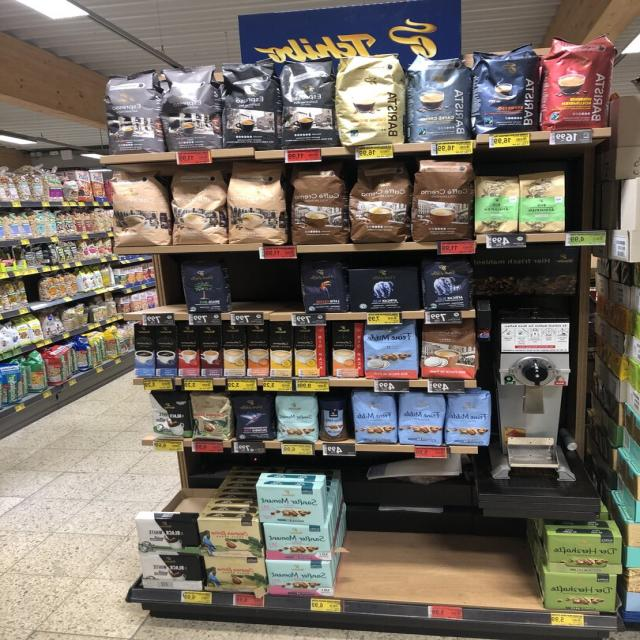AB Bohne: (420, 257, 473, 313)
AB Gemahlen: (349, 266, 422, 313)
Athiopien Gemahlen: (517, 170, 566, 233), (474, 175, 519, 235)
BM Bohne: (178, 258, 231, 314)
BW Bohne: (145, 391, 191, 439)
BW Gemahlen: (133, 518, 199, 556), (139, 555, 204, 591)
Barista CB: (335, 52, 407, 145)
Barista CC: (404, 54, 470, 143)
Barista Espresso: (470, 40, 540, 137)
Barista Kolumbien: (541, 30, 614, 131)
C Fino Bohne: (230, 393, 275, 443)
CC Mild: (106, 168, 172, 248), (226, 163, 287, 245), (168, 165, 227, 246)
CC Vollmundig: (419, 322, 477, 381)
CC Vollmundig 36 Pads: (412, 157, 474, 243), (348, 162, 411, 244), (290, 163, 348, 246)
Colombia BB Bohne: (188, 393, 232, 442)
Colombia BB Gemahlen: (197, 518, 264, 558), (203, 557, 267, 596)
Empty Shelf: (329, 519, 542, 608), (114, 257, 184, 313), (229, 260, 300, 312), (566, 169, 617, 231), (193, 479, 257, 520)
Espresso Aromatisch: (159, 58, 223, 152), (99, 66, 166, 155)
Espresso Kraftig: (278, 52, 340, 151), (216, 58, 280, 149)
FM 36 Pads: (363, 324, 420, 381)
FM Bohne: (443, 392, 493, 448), (398, 393, 445, 447), (352, 392, 399, 446)
FM Instant: (318, 398, 351, 444)
Herzhatfe Mundig: (547, 530, 622, 575), (544, 571, 617, 613)
LG Bohne: (299, 257, 349, 314)
SM Bohne: (274, 394, 318, 445)
SM Gemahlen: (255, 485, 326, 525), (261, 523, 332, 563), (264, 561, 333, 597)
Simo CCMild: (293, 325, 326, 376)
Simo CCMild bigpack: (269, 324, 291, 378)
Simo CCVollmundig: (333, 322, 364, 377)
Simo CCVollmundig bigpack: (246, 324, 269, 376)
Simo Decaff: (223, 325, 245, 376)
Simo Es Brazil: (178, 325, 200, 376)
Simo Es Caramel: (200, 325, 223, 377)
Simo Es Kraft: (155, 326, 177, 377)
Simo Es Vanilla: (134, 325, 155, 378)
